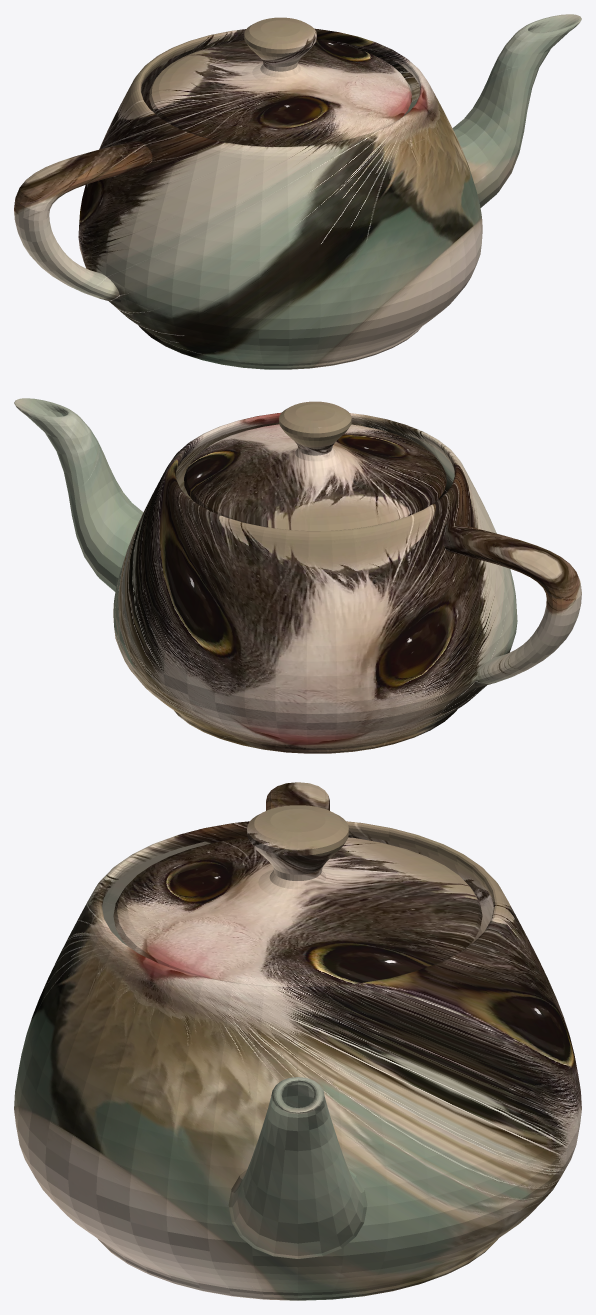
File: teapot.obj
3 renders of one model, top to bottom at view 1: azimuth 30°, elevation 25°; view 2: azimuth 150°, elevation 25°; view 3: azimuth 270°, elevation 25°, orthographic. The views are drawn at different scales.
Visible parts, largest first — view 1: teapot; view 2: teapot; view 3: teapot.
Boxes of the visible parts, box(x1,y1,x2,y2) form: teapot: box(14, 14, 581, 369); teapot: box(14, 398, 581, 753); teapot: box(14, 782, 581, 1300).
Size of the model in its own units: 6.43 by 3.15 by 4.
